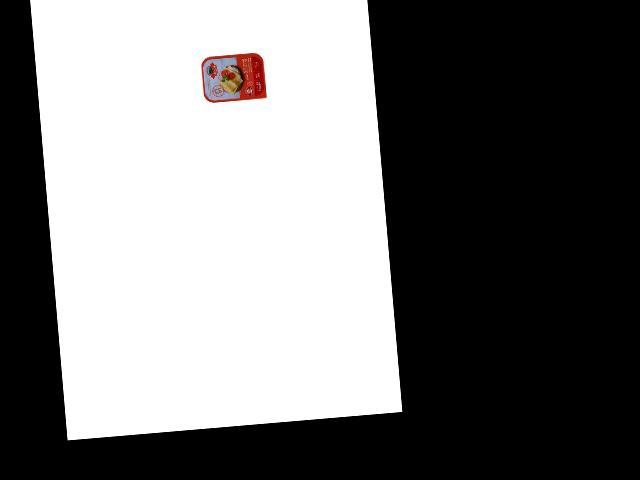cheese: (198, 48, 270, 104)
